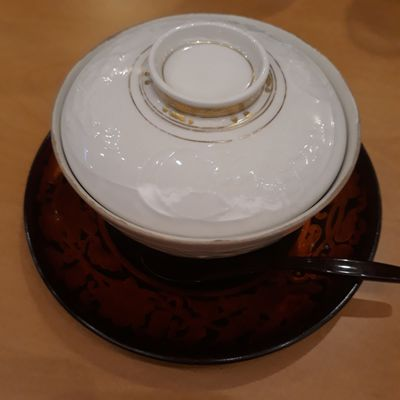sushi: (21, 2, 396, 378)
